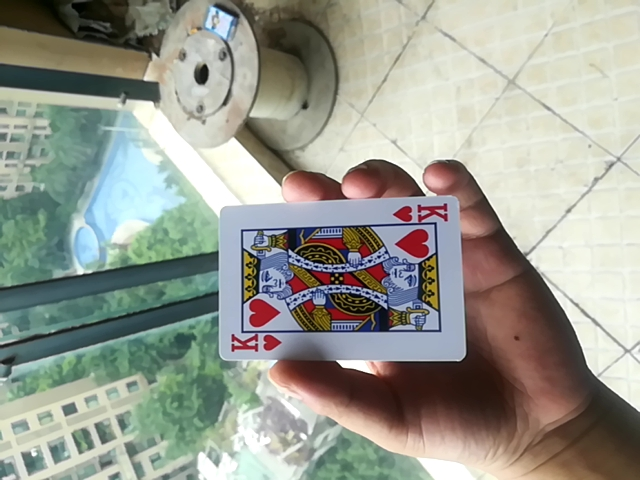hx k: (211, 192, 465, 364)
